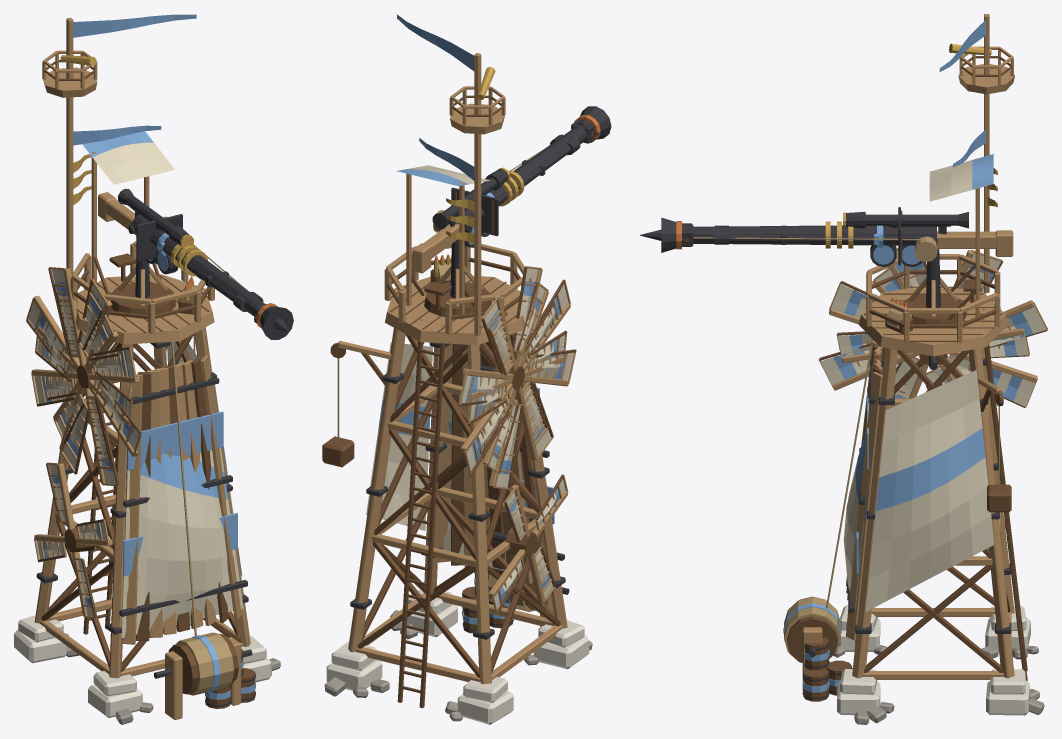
File: sniper.glb
The picture shows the model from 3 angles, left to right: view 1: azimuth 30°, elevation 25°; view 2: azimuth 150°, elevation 25°; view 3: azimuth 270°, elevation 25°; orthographic projection.
Visible parts, largest first — view 1: Sniper__mesh, Sniper__heavyshot__mesh, Sniper__not_heavyshot__mesh, Sniper_Vanes_twin__twin__mesh, Sniper_Yaw__mesh, Sniper__pin__mesh, Sniper__eagle__mesh, Sniper_Vanes_quick__quick__not_twin__mesh, Sniper_Vanes_twin_low__twin__mesh, Sniper_Vanes__not_quick__mesh, Sniper_Pitch__heavyshot__mesh, Sniper__burst__mesh (+5 smaller); view 2: Sniper__mesh, Sniper_Vanes_twin__twin__mesh, Sniper__heavyshot__mesh, Sniper__eagle__mesh, Sniper_Vanes_quick__quick__not_twin__mesh, Sniper_Vanes_twin_low__twin__mesh, Sniper_Yaw__mesh, Sniper_Vanes__not_quick__mesh, Sniper_Pitch__heavyshot__mesh, Sniper_Pitch__mesh, Sniper__burst__mesh, Sniper_Pitch__eagle__mesh (+5 smaller); view 3: Sniper__mesh, Sniper_Vanes_twin__twin__mesh, Sniper_Yaw__mesh, Sniper__heavyshot__mesh, Sniper__pin__mesh, Sniper__eagle__mesh, Sniper_Pitch__heavyshot__mesh, Sniper_Vanes_quick__quick__not_twin__mesh, Sniper__burst__mesh, Sniper_Pitch__twin__mesh, Sniper__not_heavyshot__mesh, Sniper_Pitch__eagle__mesh (+4 smaller).
Part boxes in pixels (x1,y1,x2,y2): Sniper__mesh: (14,241,280,724); Sniper__heavyshot__mesh: (36,342,248,644); Sniper__not_heavyshot__mesh: (121,386,243,637); Sniper_Vanes_twin__twin__mesh: (26,267,141,486); Sniper_Yaw__mesh: (82,131,175,314); Sniper__pin__mesh: (154,286,252,719); Sniper__eagle__mesh: (42,14,196,274); Sniper_Vanes_quick__quick__not_twin__mesh: (35,285,132,468); Sniper_Vanes_twin_low__twin__mesh: (34,462,114,618); Sniper_Vanes__not_quick__mesh: (43,291,124,461); Sniper_Pitch__heavyshot__mesh: (132,214,264,316); Sniper__burst__mesh: (178,276,255,708); Sniper__mesh: (322,244,592,724); Sniper_Vanes_twin__twin__mesh: (459,266,576,489); Sniper__heavyshot__mesh: (350,334,565,639); Sniper__eagle__mesh: (397,14,505,336); Sniper_Vanes_quick__quick__not_twin__mesh: (467,281,567,473); Sniper_Vanes_twin_low__twin__mesh: (486,474,568,614); Sniper_Yaw__mesh: (397,165,491,319); Sniper_Vanes__not_quick__mesh: (473,302,559,454); Sniper_Pitch__heavyshot__mesh: (448,126,586,236); Sniper_Pitch__mesh: (412,223,472,273); Sniper__burst__mesh: (430,254,513,633); Sniper_Pitch__eagle__mesh: (432,167,509,228); Sniper__mesh: (833,254,1044,724); Sniper_Vanes_twin__twin__mesh: (819,248,1047,407); Sniper_Yaw__mesh: (903,154,993,324); Sniper__heavyshot__mesh: (846,341,1011,640); Sniper__pin__mesh: (783,308,911,690); Sniper__eagle__mesh: (939,14,1014,292); Sniper_Pitch__heavyshot__mesh: (692,207,936,265); Sniper_Vanes_quick__quick__not_twin__mesh: (836,267,1029,398); Sniper__burst__mesh: (802,297,912,701); Sniper_Pitch__twin__mesh: (714,225,936,266); Sniper__not_heavyshot__mesh: (843,432,870,632); Sniper_Pitch__eagle__mesh: (843,211,968,234).
Size of the model in its own units: 6.01 by 19.91 by 11.47.
